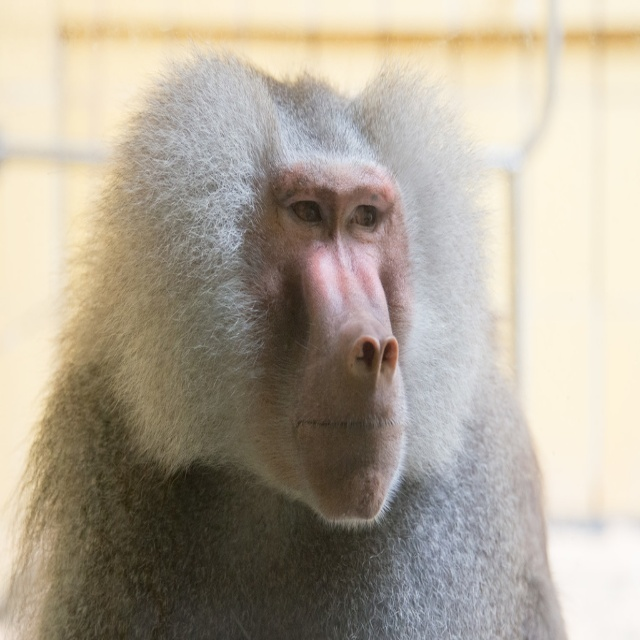Monkey: (0, 28, 569, 640)
